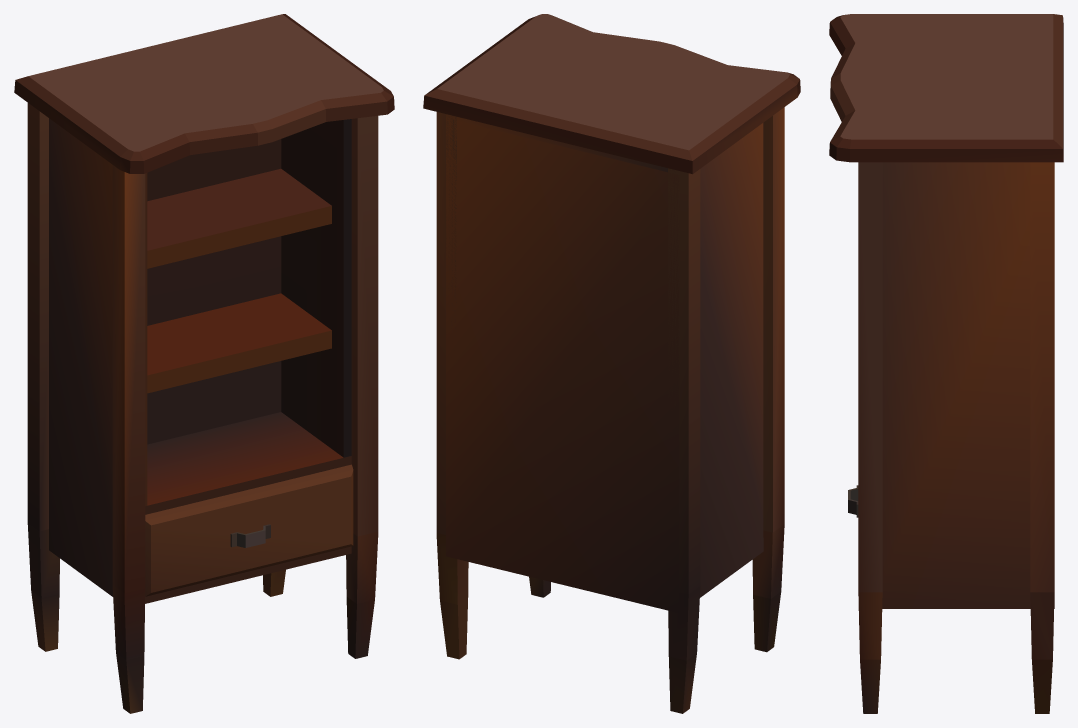
The model's file is Furniture_ShelfA.fbx.
3 renders of one model, left to right at view 1: azimuth 30°, elevation 25°; view 2: azimuth 150°, elevation 25°; view 3: azimuth 270°, elevation 25°, orthographic. The views are drawn at different scales.
Parts seen in each view (by area): view 1: Furniture_ShelfA; view 2: Furniture_ShelfA; view 3: Furniture_ShelfA.
Boxes of the visible parts, bbox=[...] form: Furniture_ShelfA: bbox=[14, 14, 394, 713]; Furniture_ShelfA: bbox=[423, 14, 800, 713]; Furniture_ShelfA: bbox=[829, 14, 1063, 713].
Bounding box in the file's own units: 78.89 × 159 × 58.26.
